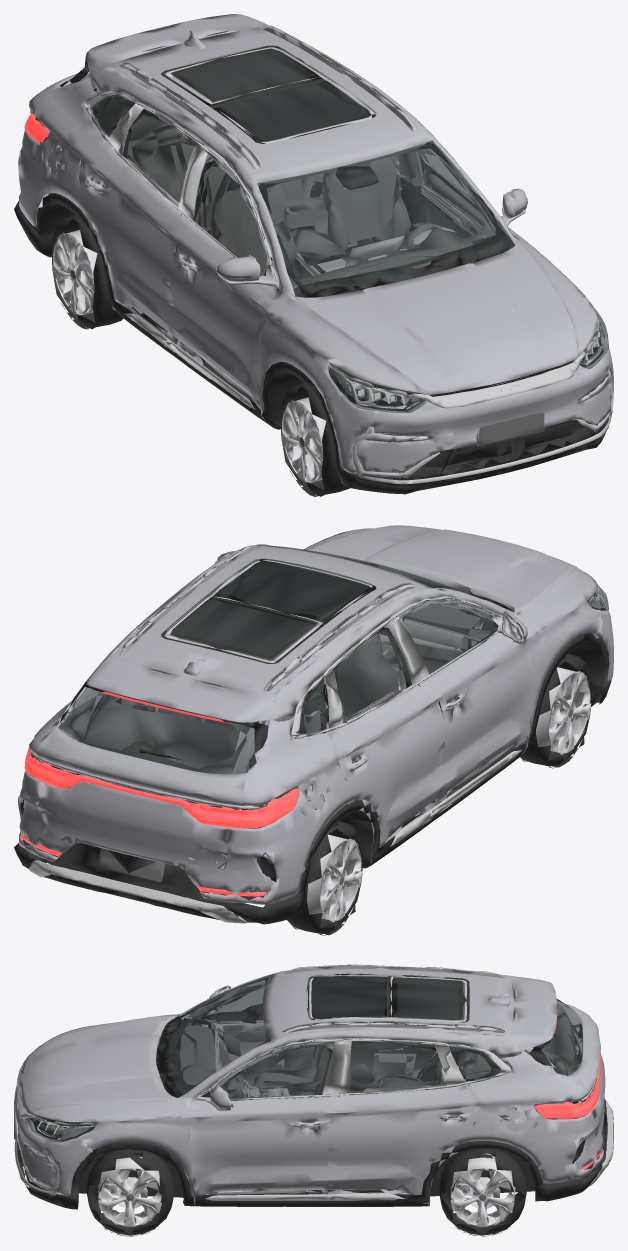
Rendered from songplus.glb.
3 renders of one model, top to bottom at view 1: azimuth 30°, elevation 25°; view 2: azimuth 150°, elevation 25°; view 3: azimuth 270°, elevation 25°, orthographic. The views are drawn at different scales.
Visible parts, largest first — view 1: body, wRB, wRF; view 2: body, wRB, wRF; view 3: body, wLB, wLF.
Boxes of the visible parts, x1,y1,x2,y2 form: body: (14,14,613,496); wRB: (51,215,123,328); wRF: (280,382,350,495); body: (14,525,613,935); wRB: (287,821,362,934); wRF: (520,653,591,766); body: (14,964,613,1236); wLB: (430,1149,535,1235); wLF: (78,1149,183,1235).
Bounding box in the file's own units: 2.18 × 1.71 × 4.77.
